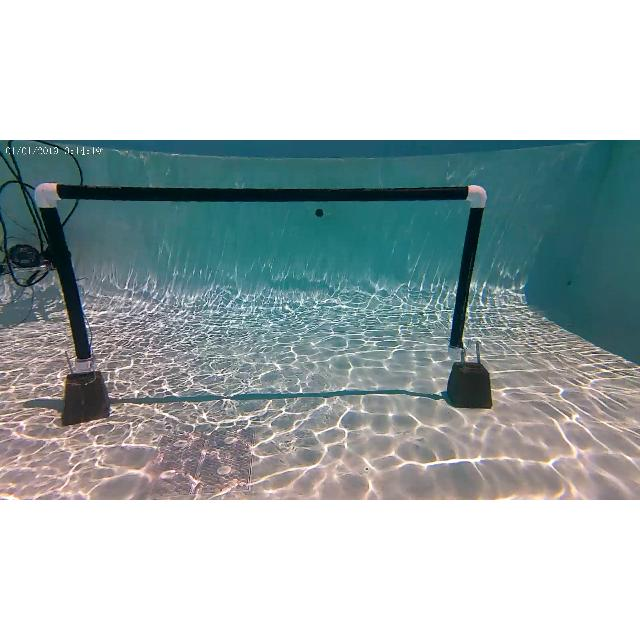prequal gate: (34, 182, 486, 372)
prequal gate leg l: (33, 184, 96, 368)
prequal gate leg r: (448, 184, 488, 356)
